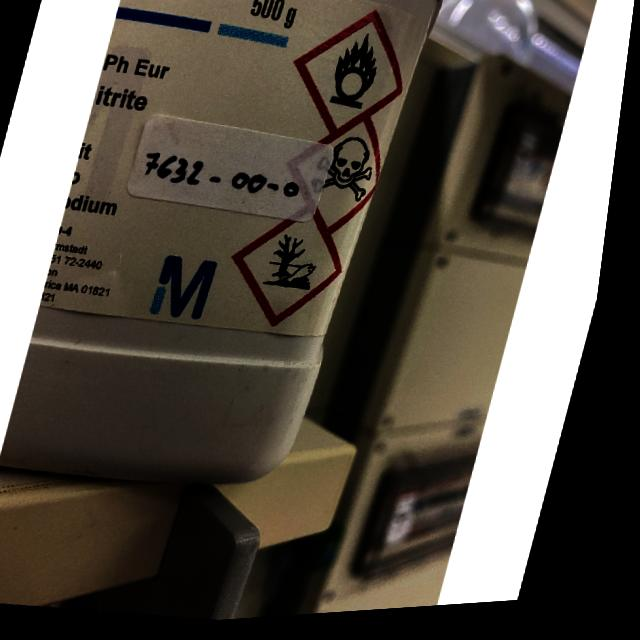acute toxicity: (313, 136, 387, 210)
hazardous to the environment: (268, 235, 333, 299)
oxidising: (327, 34, 389, 117)
